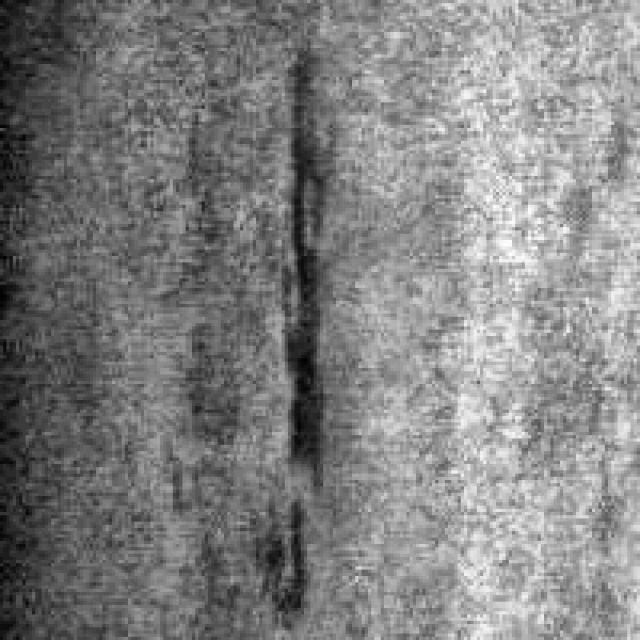Patches: (256, 0, 336, 502), (252, 460, 310, 630)
